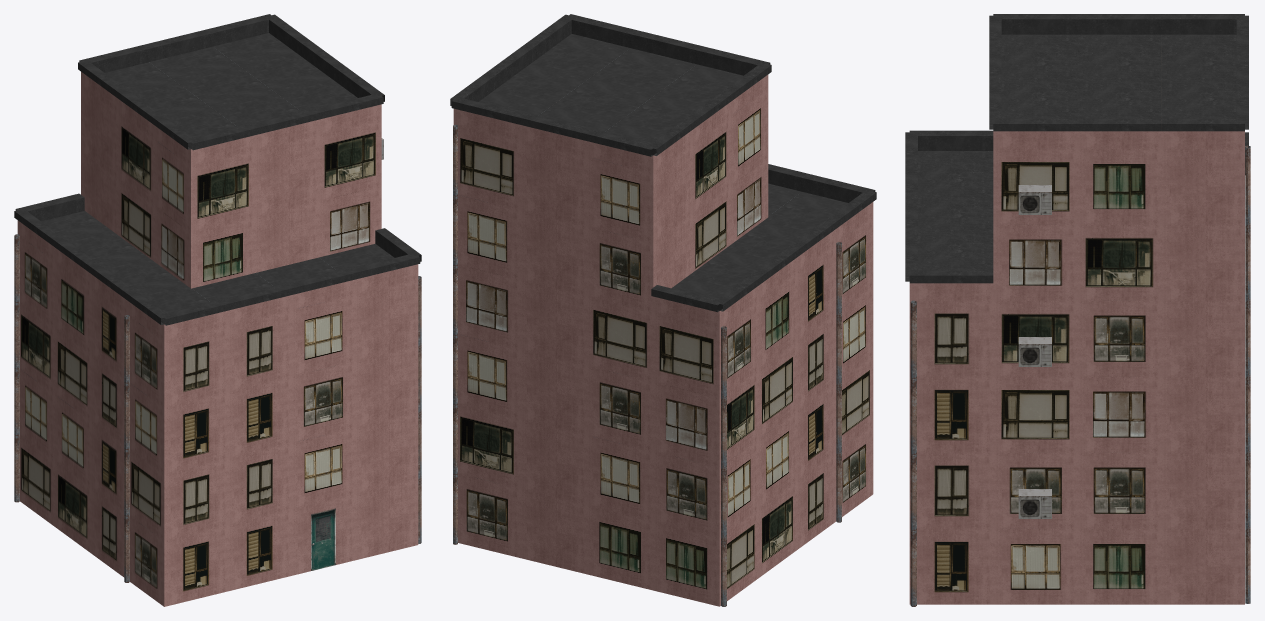
Rendered from Alex_RedPlasterTower_Model.fbx.
The picture shows the model from 3 angles, left to right: view 1: azimuth 30°, elevation 25°; view 2: azimuth 150°, elevation 25°; view 3: azimuth 270°, elevation 25°; orthographic projection. The views are drawn at different scales.
Visible parts, largest first — view 1: Alex_RedPlasterTower_Part01, Alex_RedPlasterTower_Part00; view 2: Alex_RedPlasterTower_Part01, Alex_RedPlasterTower_Part00; view 3: Alex_RedPlasterTower_Part01, Alex_RedPlasterTower_Part00.
Part boxes in pixels (x1,y1,x2,y2): Alex_RedPlasterTower_Part01: [14, 14, 421, 606]; Alex_RedPlasterTower_Part00: [14, 33, 421, 582]; Alex_RedPlasterTower_Part01: [450, 14, 876, 606]; Alex_RedPlasterTower_Part00: [453, 34, 848, 606]; Alex_RedPlasterTower_Part01: [905, 14, 1248, 604]; Alex_RedPlasterTower_Part00: [910, 34, 1250, 606].
Bounding box in the file's own units: 11.97 × 17.78 × 11.53.
